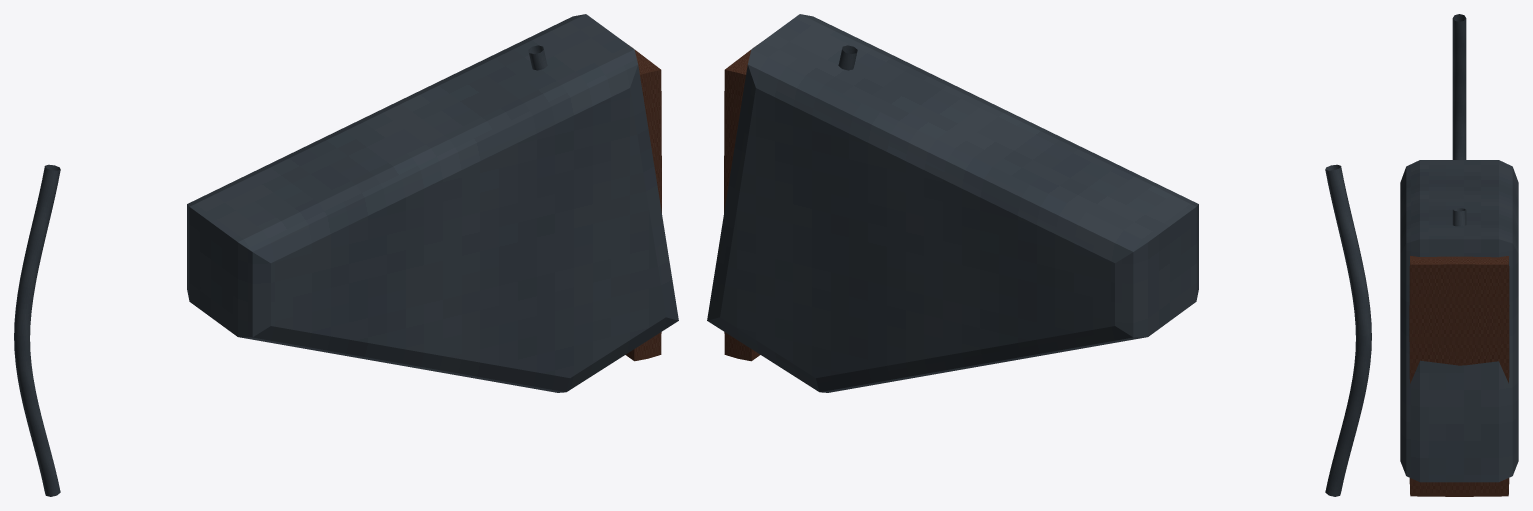
3 views of the same model, side by side, from view 1: azimuth 30°, elevation 25°; view 2: azimuth 150°, elevation 25°; view 3: azimuth 270°, elevation 25° (orthographic). The views are drawn at different scales.
Parts seen in each view (by area): view 1: iron.0, iron.2, leather.1; view 2: iron.0, iron.2, leather.1; view 3: iron.0, leather.1, iron.2, iron.3.
Boxes of the visible parts, x1=… form: iron.0: x1=187, y1=14, x2=678, y2=392; iron.2: x1=14, y1=164, x2=60, y2=496; leather.1: x1=625, y1=45, x2=661, y2=361; iron.0: x1=707, y1=14, x2=1198, y2=392; iron.2: x1=1325, y1=164, x2=1371, y2=496; leather.1: x1=724, y1=45, x2=760, y2=361; iron.0: x1=1400, y1=160, x2=1518, y2=482; leather.1: x1=1409, y1=256, x2=1509, y2=496; iron.2: x1=1452, y1=14, x2=1466, y2=159; iron.3: x1=1452, y1=208, x2=1466, y2=226.
Size of the model in its own units: 0.5331 by 0.2616 by 0.105.
Materials: 2 (2 with a texture image).
